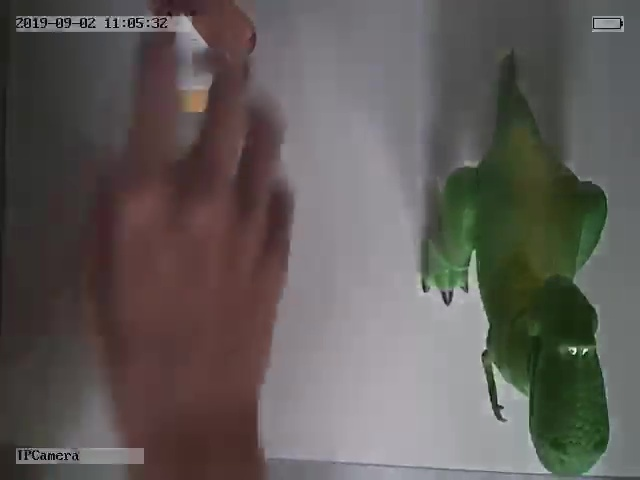rex: (420, 81, 612, 479)
